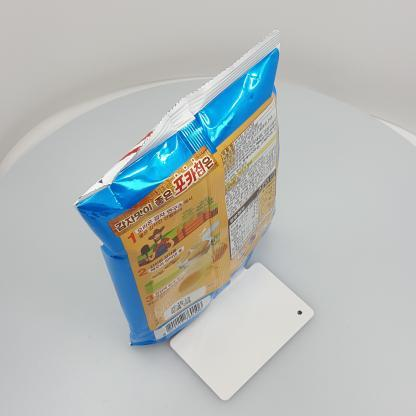Plastic Packaging: (66, 21, 328, 355)
